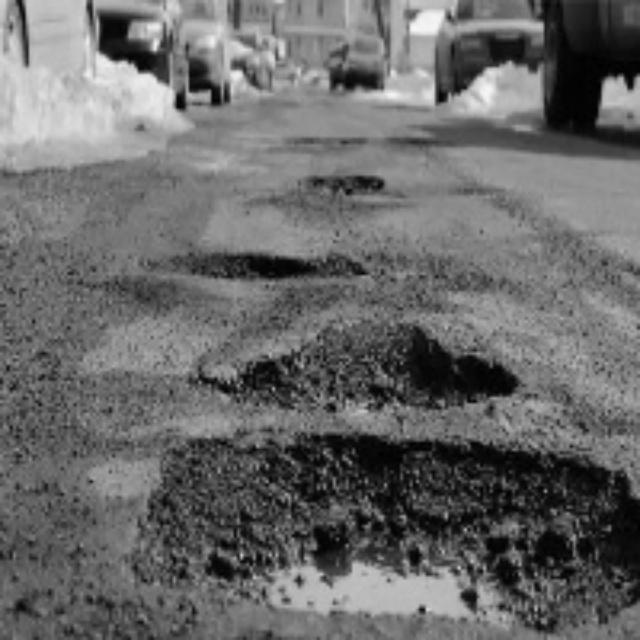Pothole: (210, 438, 557, 640), (290, 324, 468, 416), (182, 240, 318, 308), (318, 162, 398, 204)
